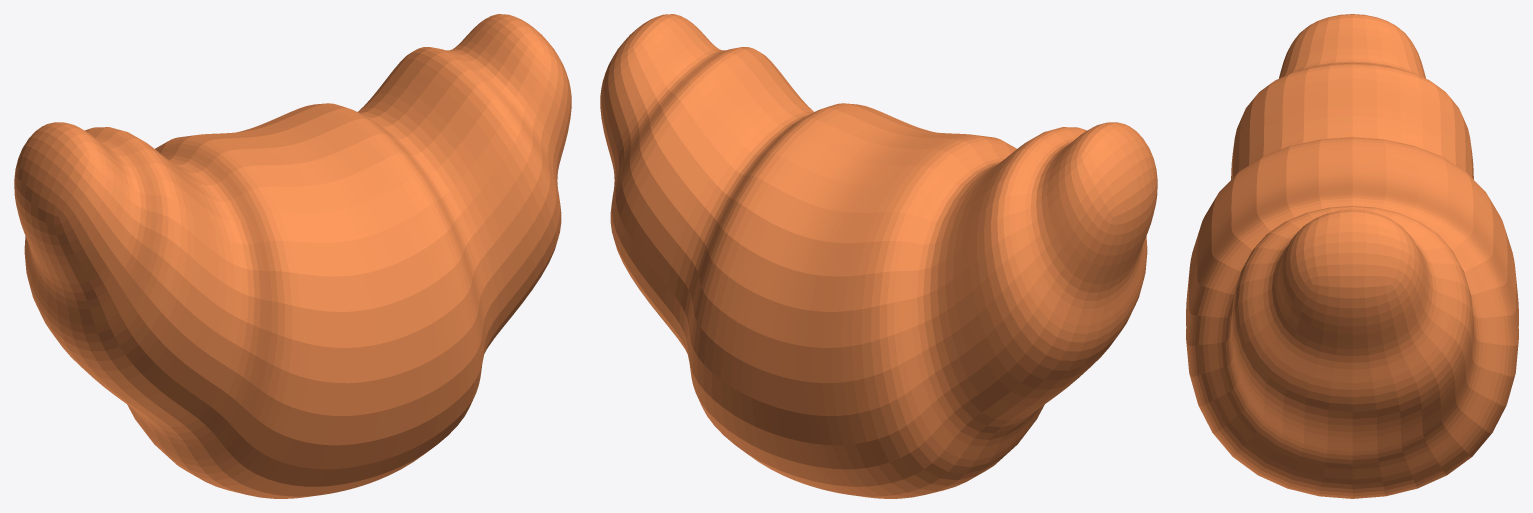
Rendered from croissant_fixed.fbx.
3 views of the same model, side by side, from view 1: azimuth 30°, elevation 25°; view 2: azimuth 150°, elevation 25°; view 3: azimuth 270°, elevation 25° (orthographic). The views are drawn at different scales.
Visible parts, largest first — view 1: croissant; view 2: croissant; view 3: croissant.
Part boxes in pixels (bbox=[...]): croissant: bbox=[14, 14, 571, 498]; croissant: bbox=[600, 14, 1157, 498]; croissant: bbox=[1186, 14, 1518, 498].
Bounding box in the file's own units: 473 × 347 × 287.
